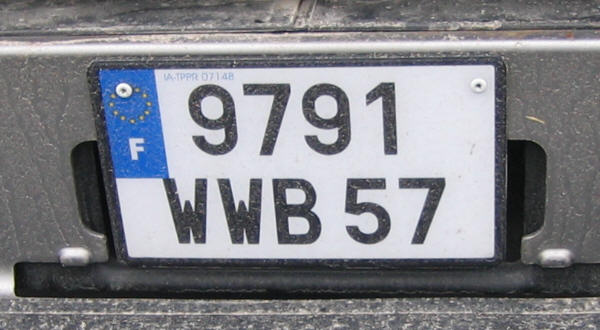license_plate: (87, 55, 507, 270)
